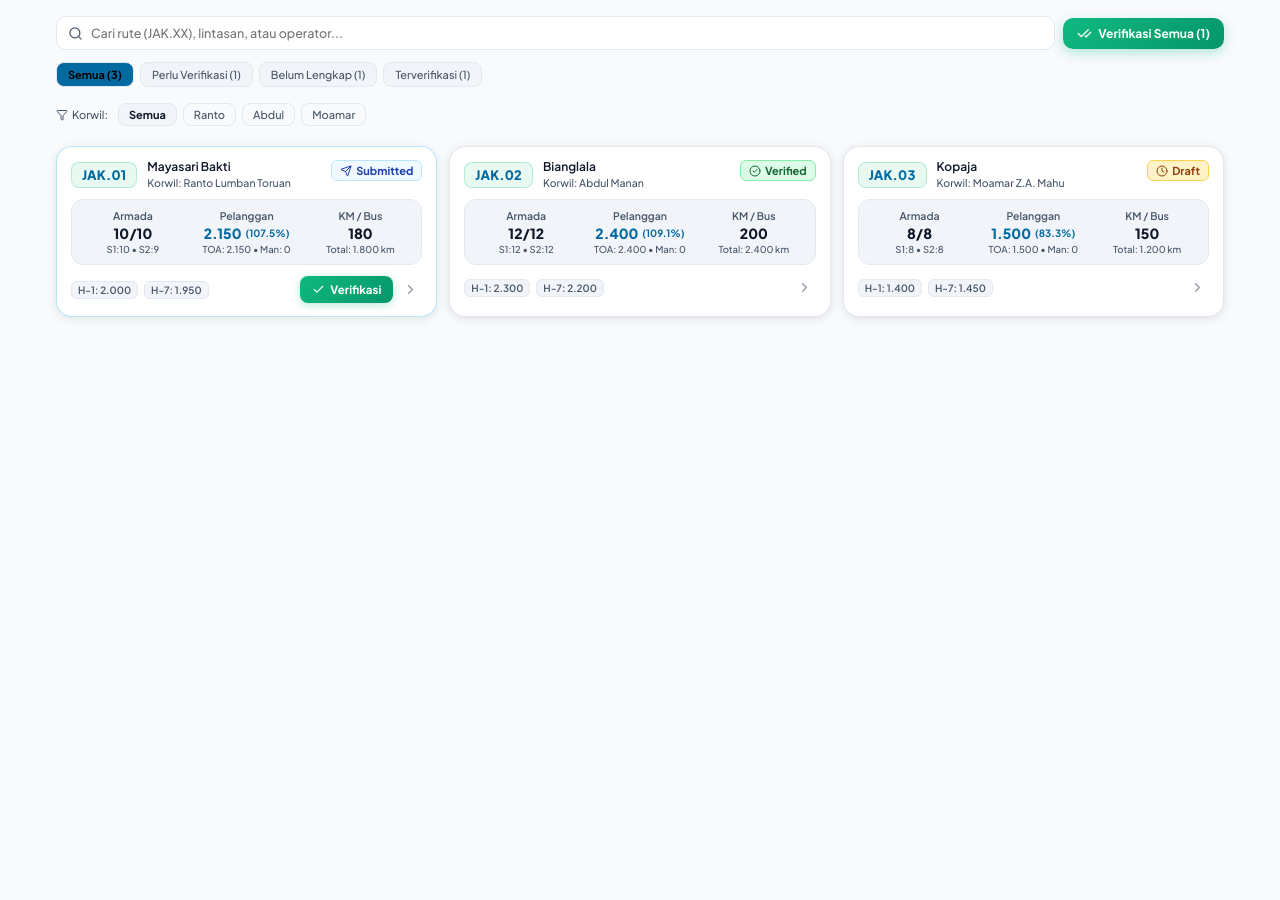
Test: MonitoringRoutesTab Component › closes MonitoringRouteDetailModal when close button is clicked
The width and height of the screenshot is (1280, 900).
Click the button with test id "route-card-JAK.01" at (247, 232), box [56, 146, 437, 317]
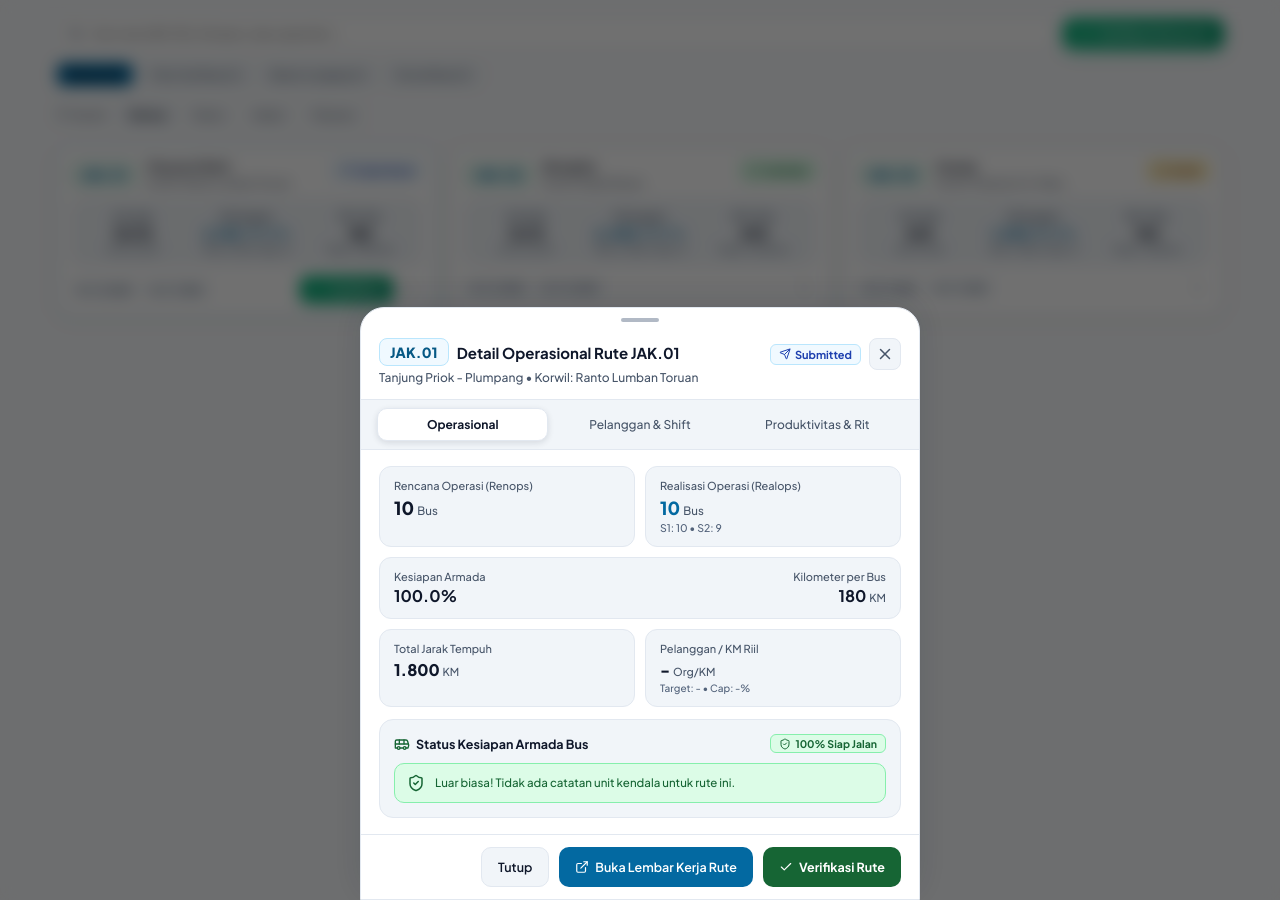
Now the text "Detail Operasional Rute JAK.01" is shown, box [457, 343, 680, 362]
Now the button with test id "modal-btn-close" is shown
Click the button with test id "modal-btn-close" at (515, 867), box [481, 847, 549, 887]
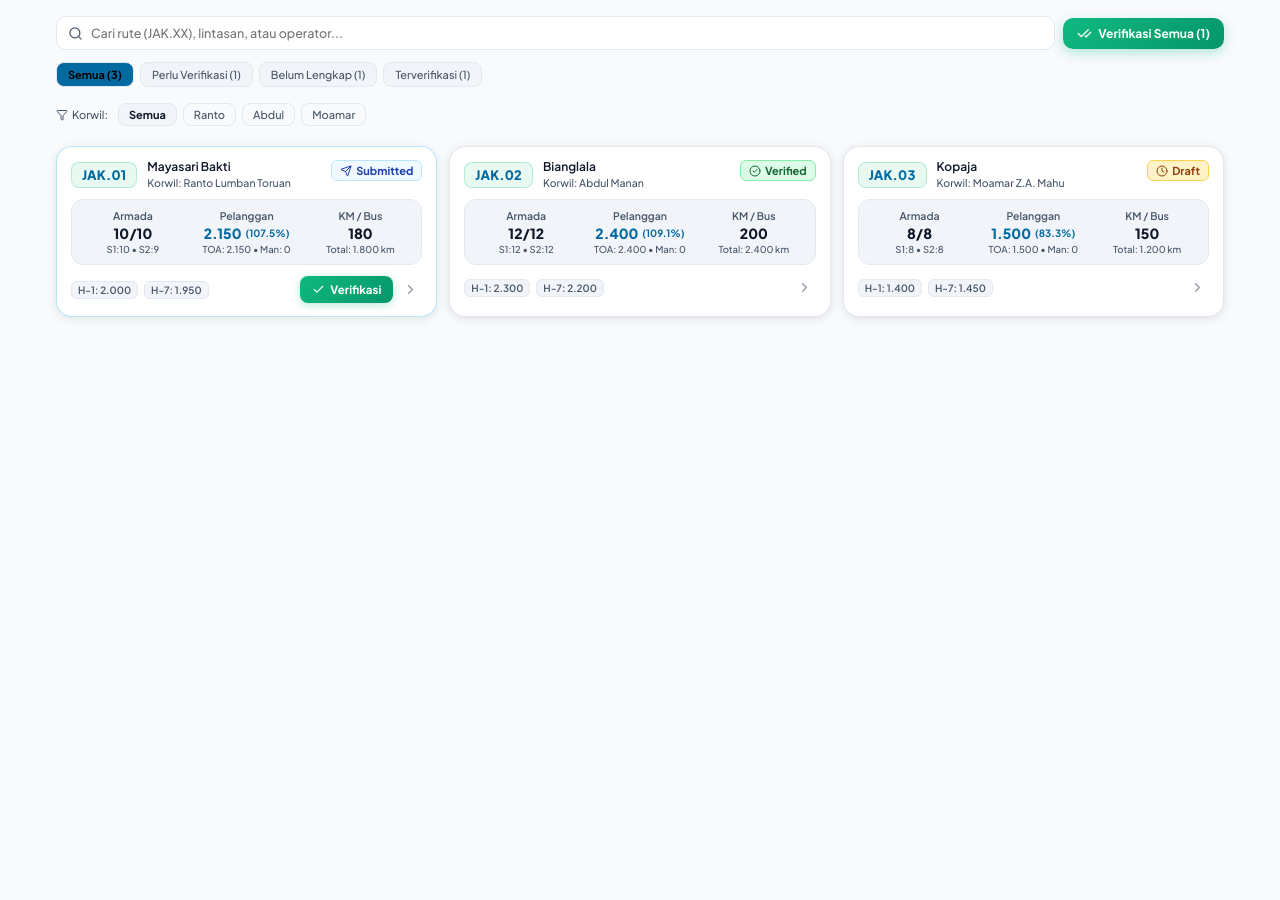
Now the button with test id "modal-btn-open-sheet" is gone
